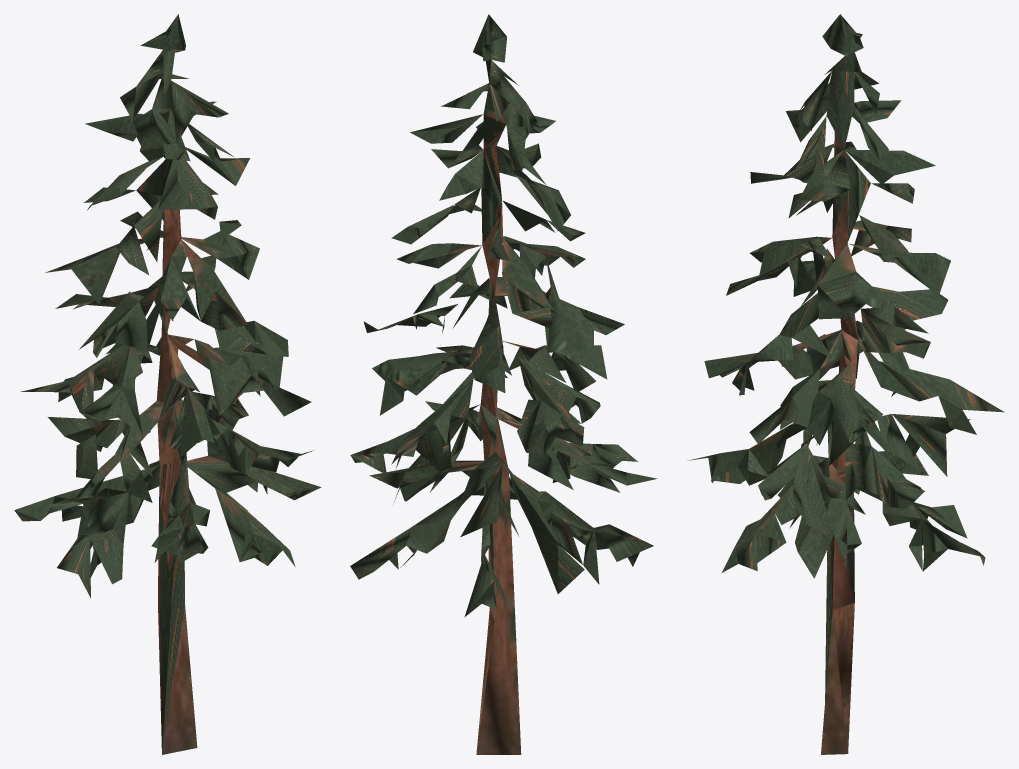
Rendered from pine_a.glb.
3 renders of one model, left to right at view 1: azimuth 30°, elevation 25°; view 2: azimuth 150°, elevation 25°; view 3: azimuth 270°, elevation 25°, orthographic.
Bounding box in the file's own units: 0.728 × 1.85 × 0.726.
1 material, 1 textured.
